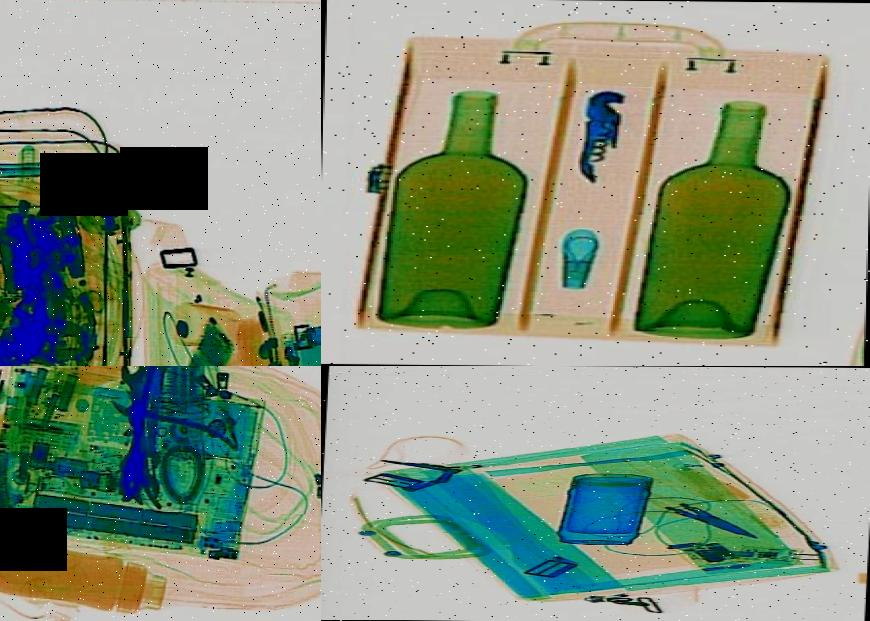Knife: (564, 87, 625, 183), (657, 499, 767, 542)
Pliers: (72, 367, 256, 510)
Wrench: (115, 366, 162, 468)
